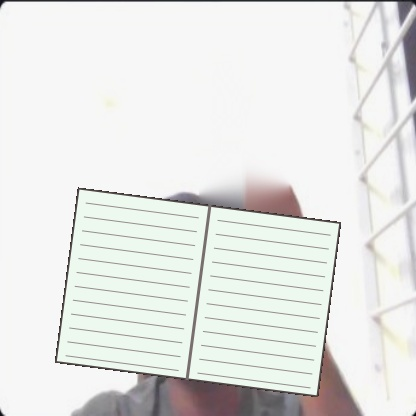book: (55, 187, 341, 397)
